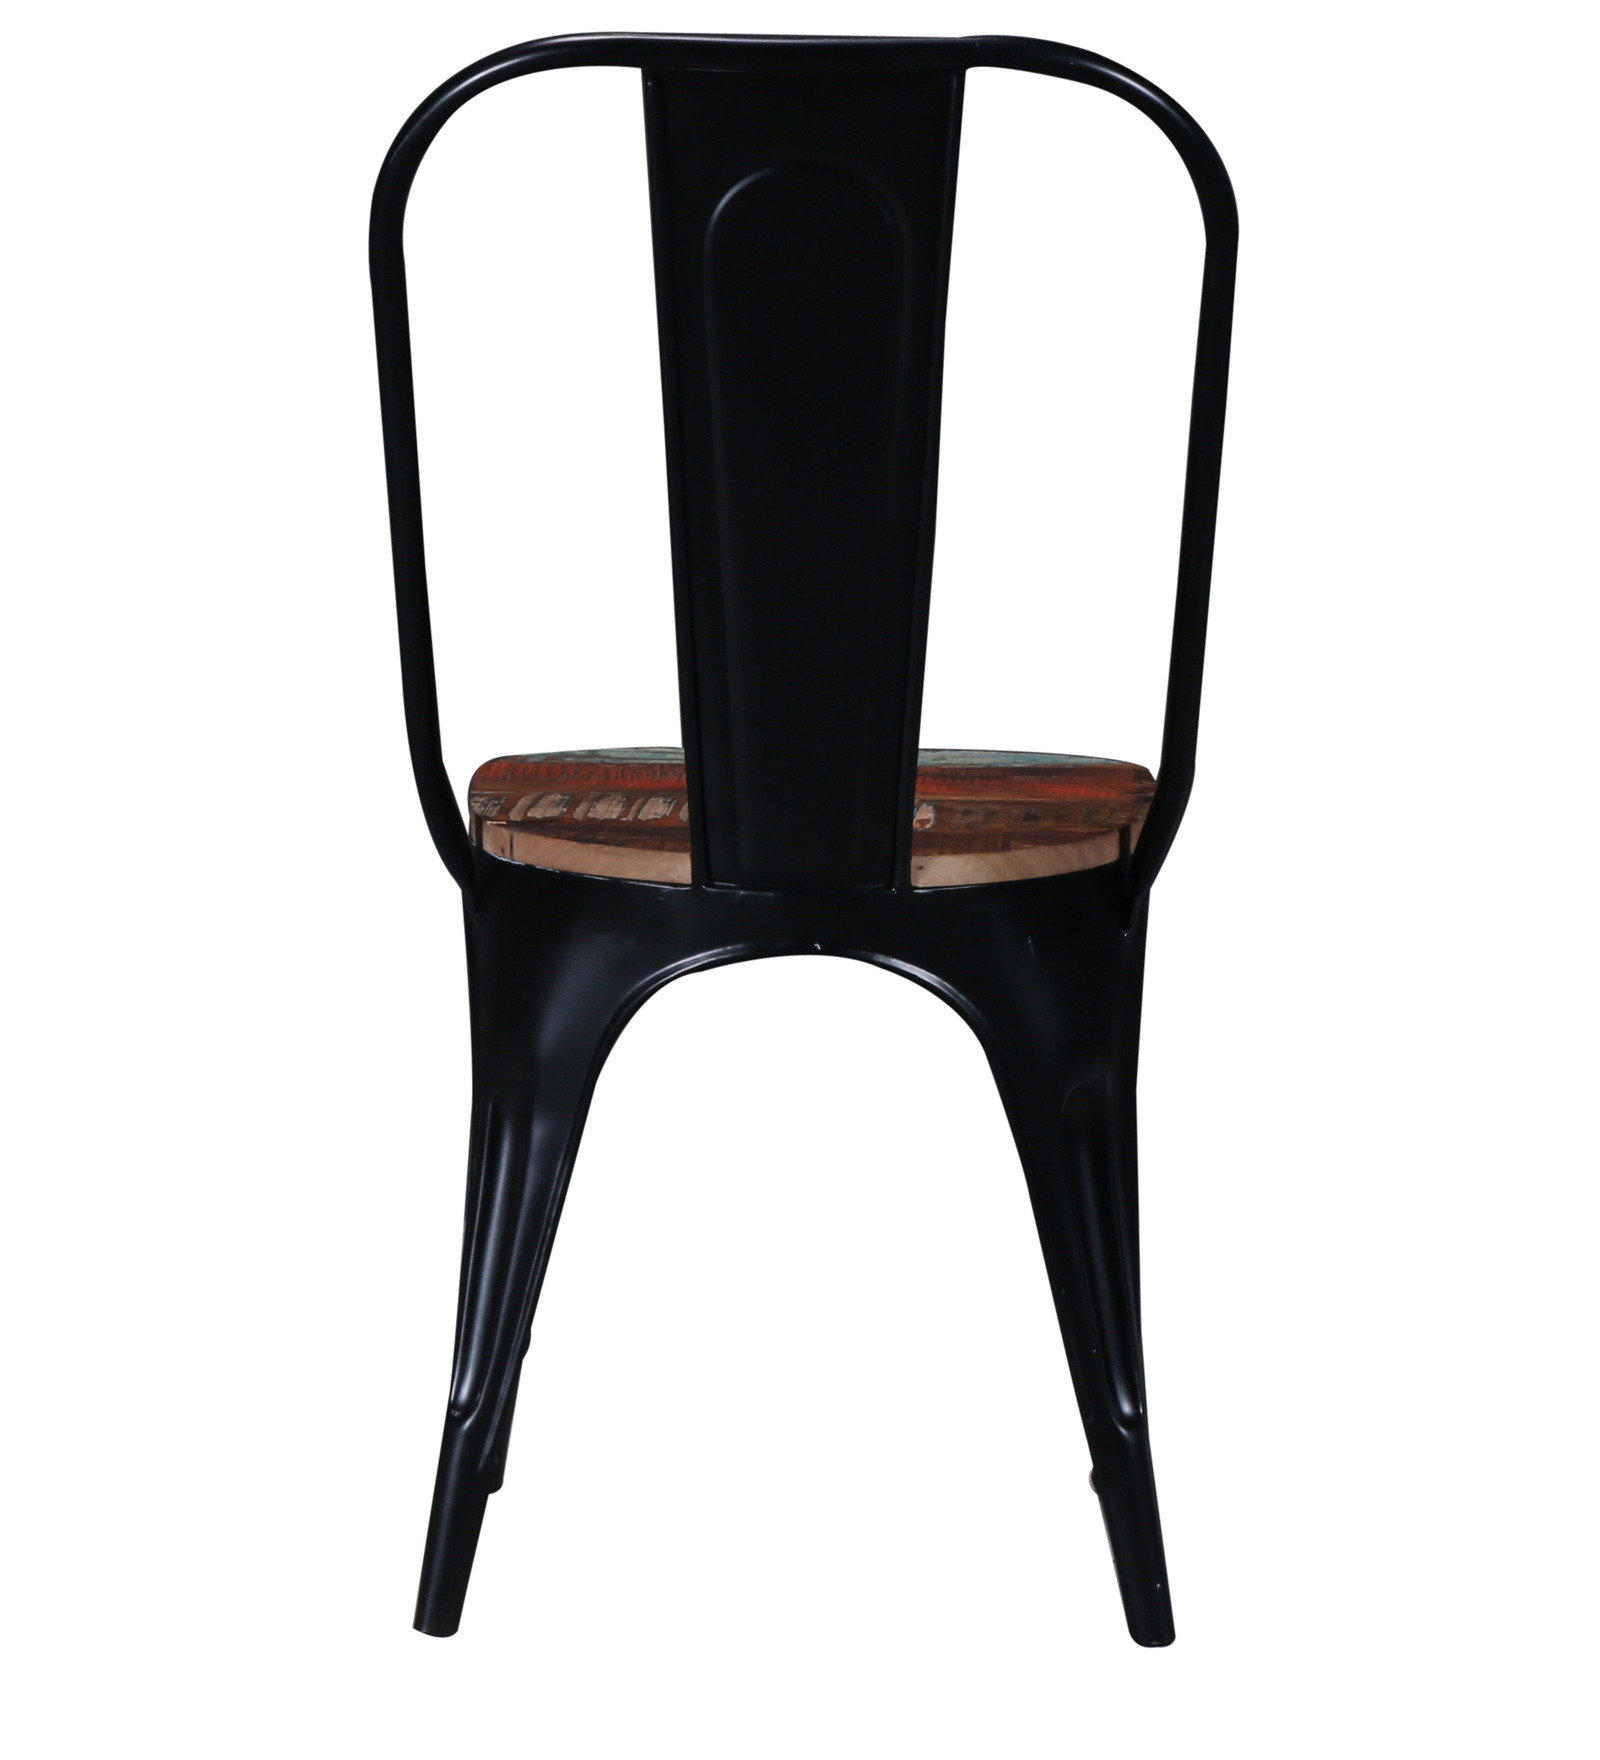Kumtor Metal Chair in Distress Black Color with Wooden Seat by Bohemiana: (297, 12, 1352, 1720)
